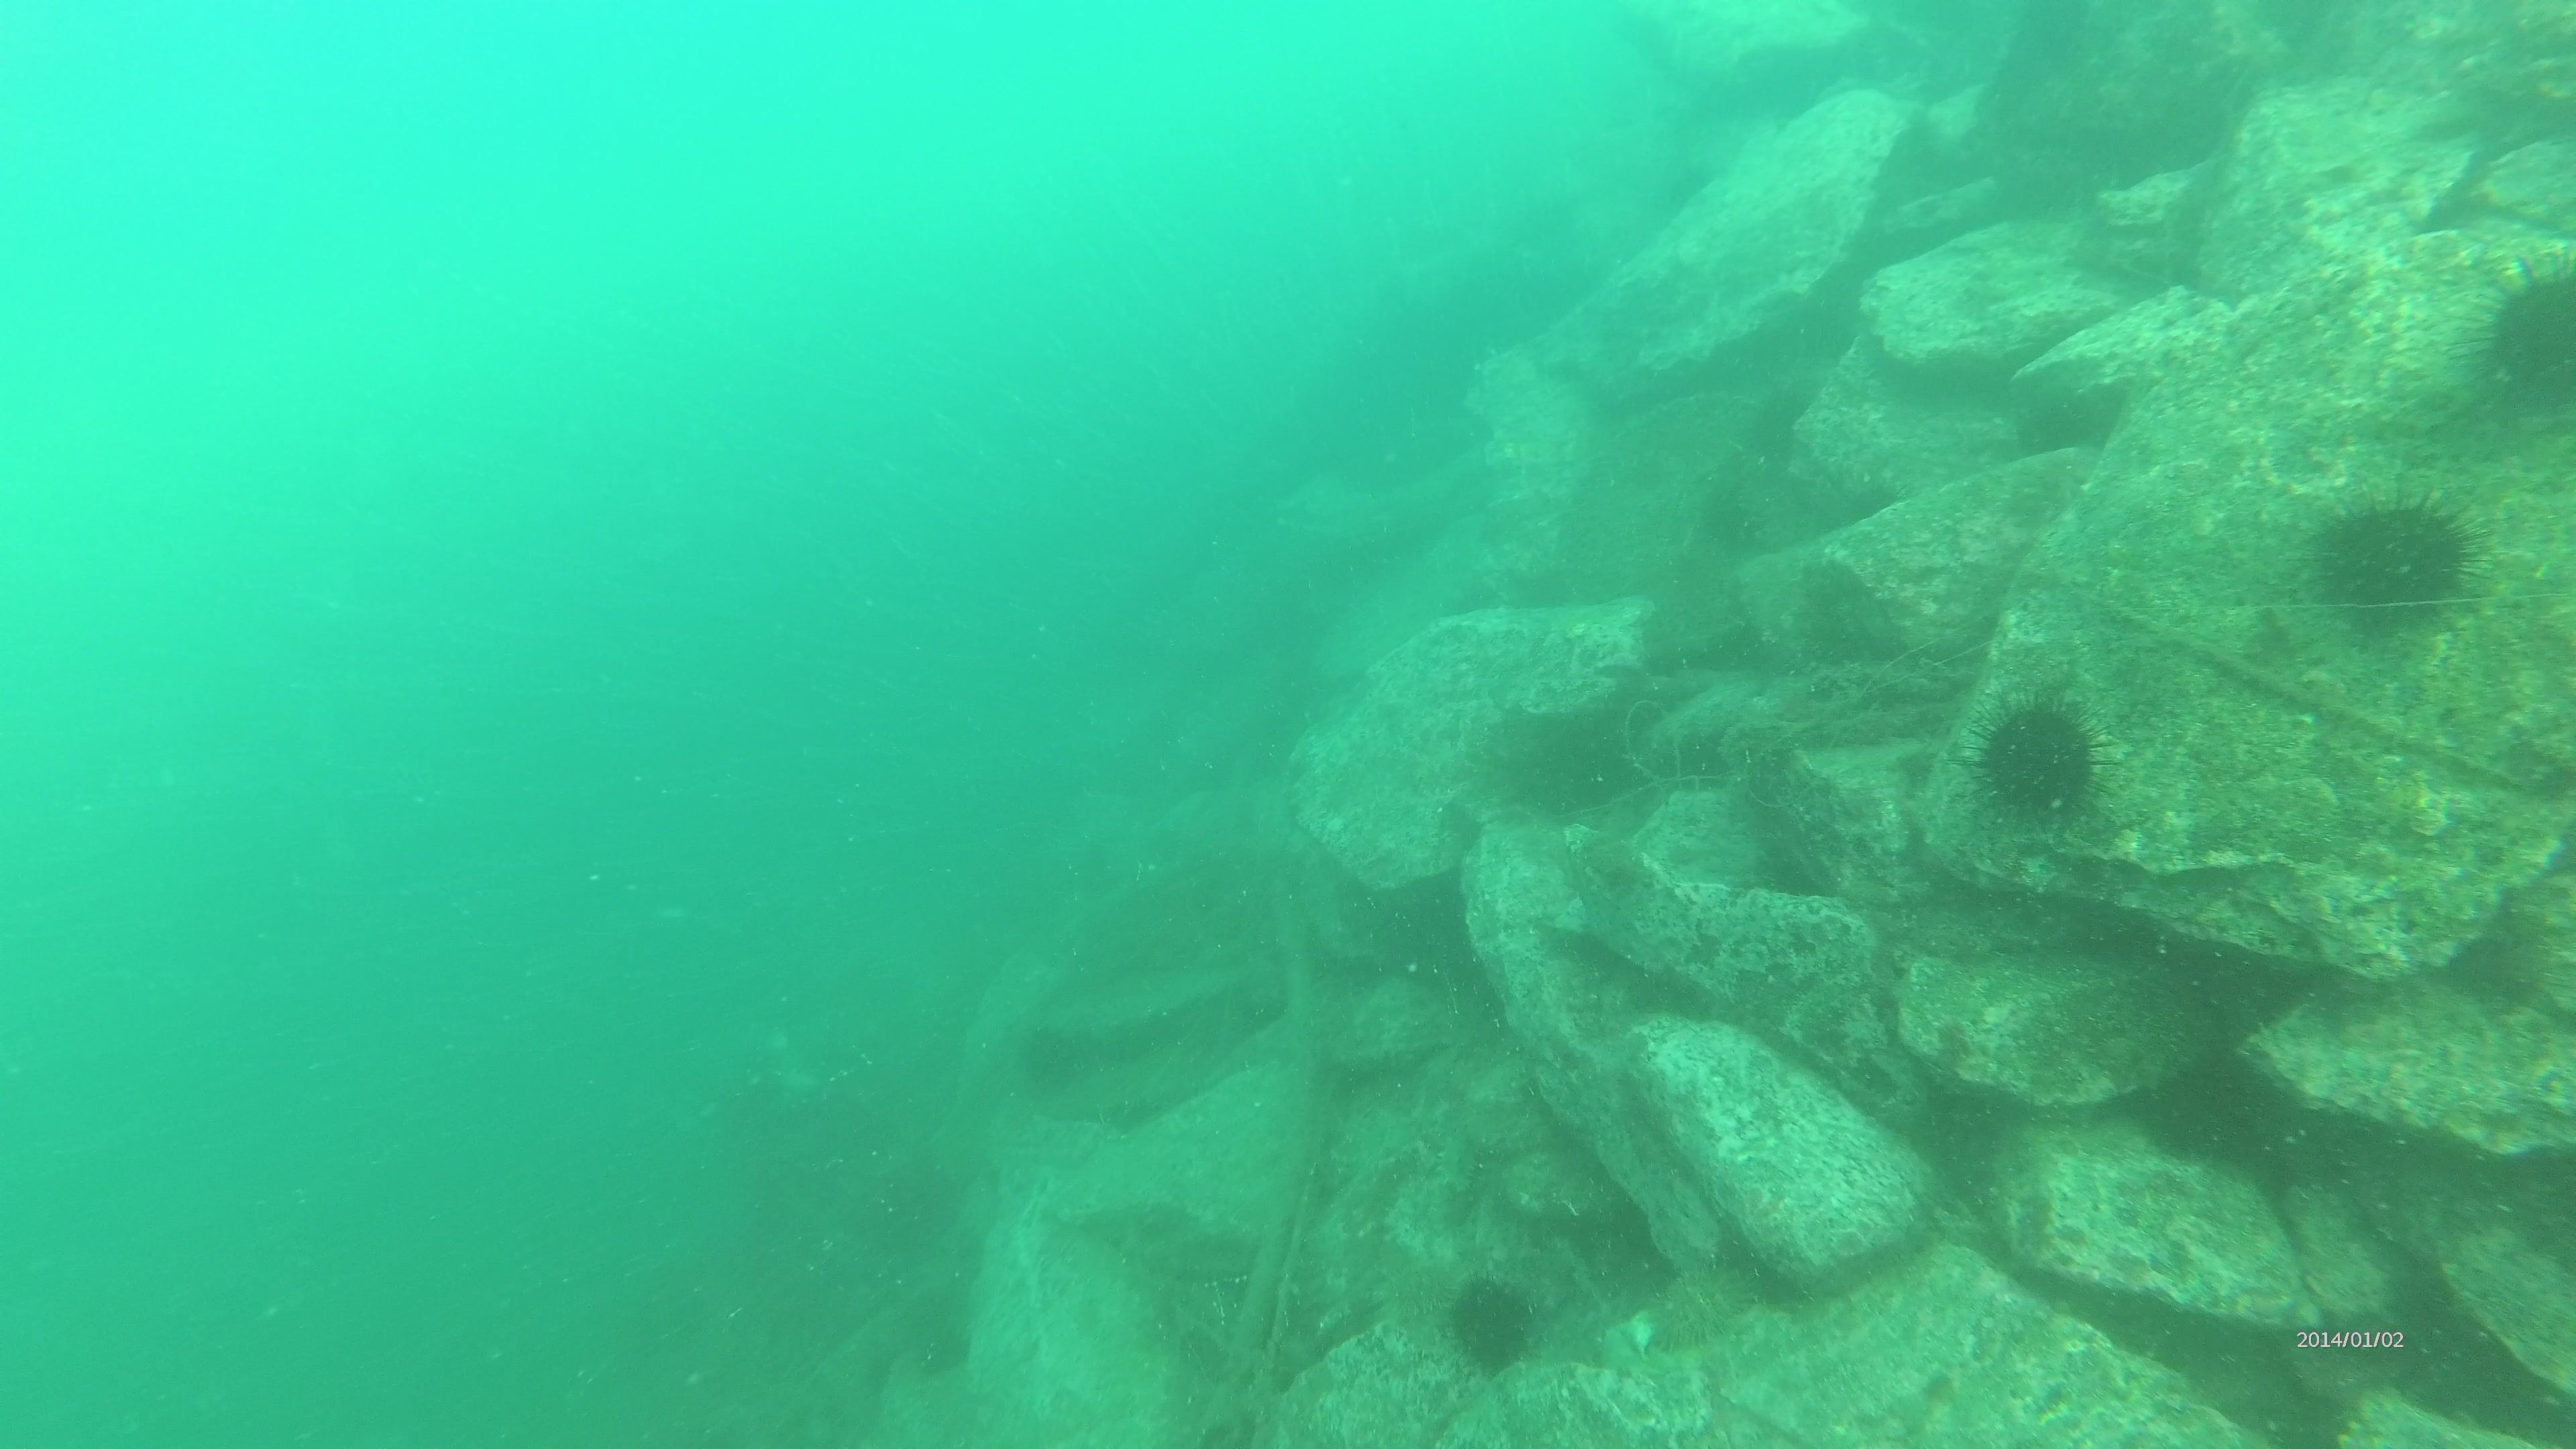echinus: (2305, 488, 2495, 653), (2449, 235, 2576, 432), (1957, 690, 2118, 837), (1426, 1269, 1548, 1380)
